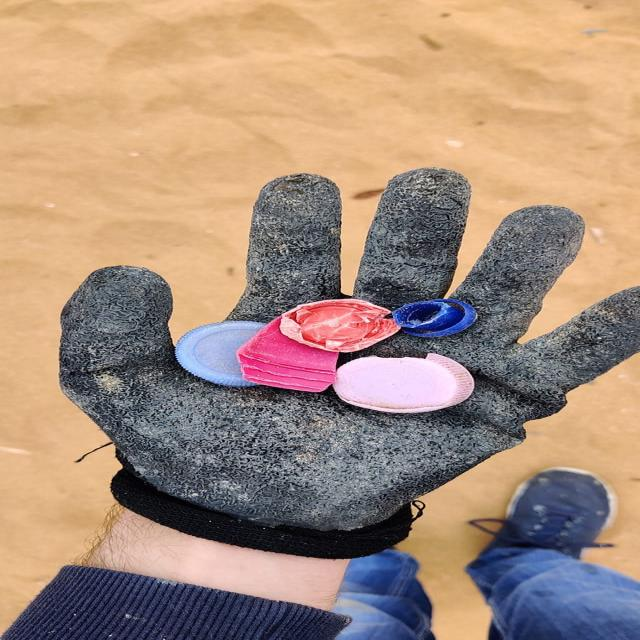Bottle cap: (346, 351, 478, 415), (270, 298, 395, 350), (177, 321, 267, 389)
Other plastic: (237, 314, 340, 396), (395, 300, 478, 340)
